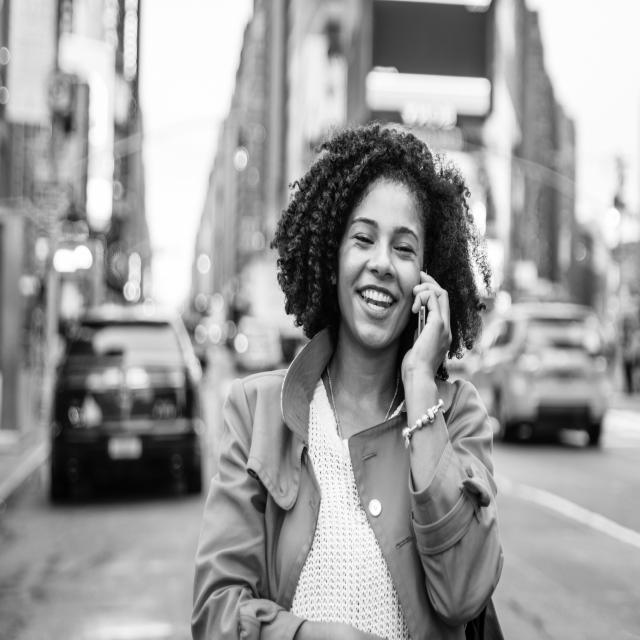phone: (377, 226, 455, 387)
